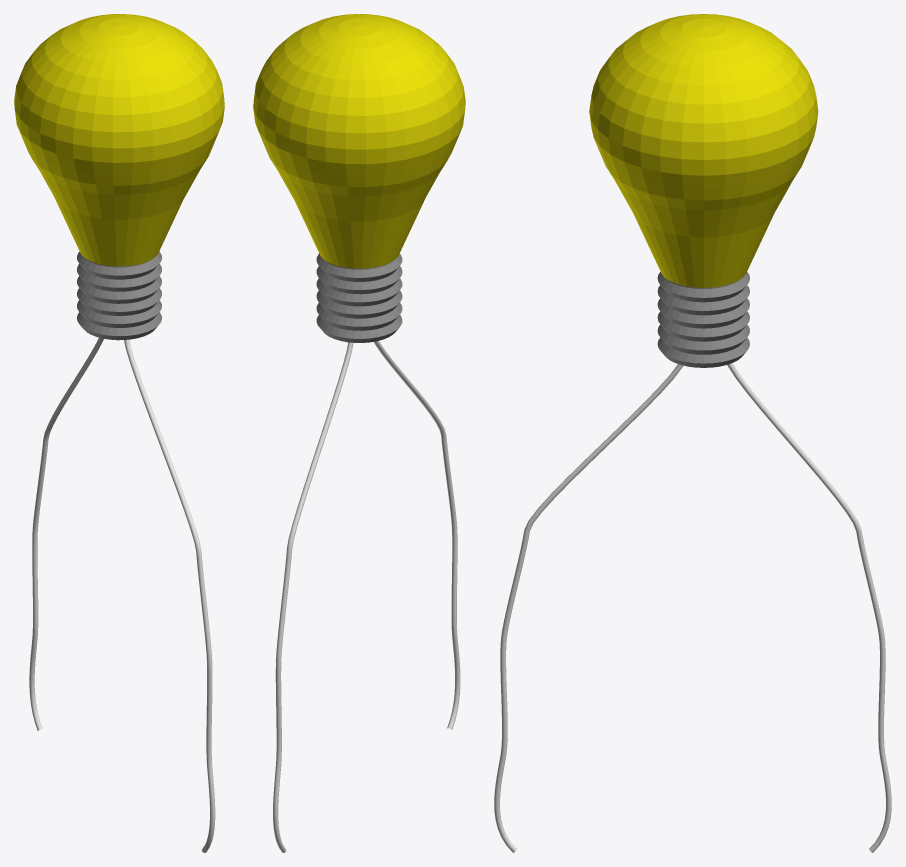
Rendered from onbulb2.gltf.
3 views of the same model, side by side, from view 1: azimuth 30°, elevation 25°; view 2: azimuth 150°, elevation 25°; view 3: azimuth 270°, elevation 25° (orthographic). The views are drawn at different scales.
Visible parts, largest first — view 1: Sphere.001, BezierCurve.002; view 2: Sphere.001, BezierCurve.002; view 3: Sphere.001, BezierCurve.002.
Boxes of the visible parts, bbox=[...] form: Sphere.001: bbox=[14, 14, 224, 340]; BezierCurve.002: bbox=[29, 337, 215, 852]; Sphere.001: bbox=[253, 14, 465, 342]; BezierCurve.002: bbox=[273, 341, 460, 852]; Sphere.001: bbox=[589, 14, 818, 367]; BezierCurve.002: bbox=[494, 363, 891, 852].
Size of the model in its own units: 5.58 by 22.23 by 9.68.
